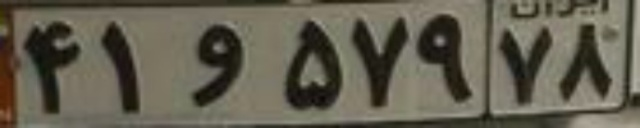1: (98, 19, 139, 113)
4: (20, 22, 81, 115)
5: (281, 19, 341, 109)
7: (351, 14, 414, 109), (498, 25, 557, 106)
8: (561, 22, 612, 102)
9: (417, 13, 475, 104)
vav: (186, 21, 241, 106)
